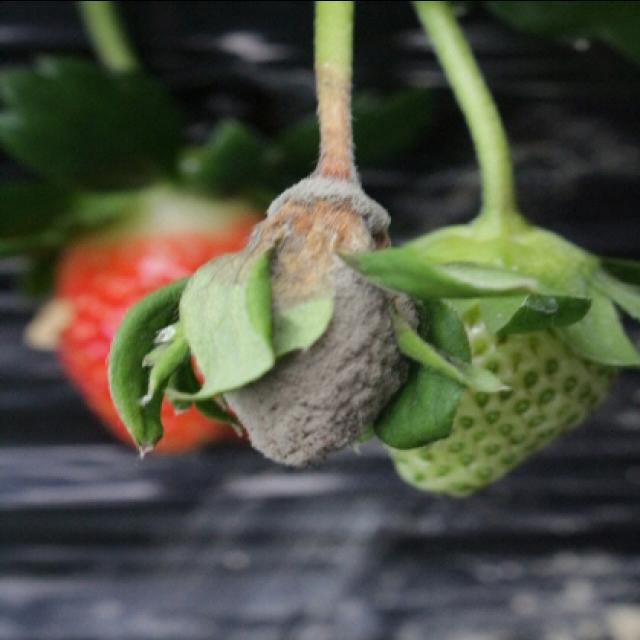Gray Mold: (208, 150, 418, 467)
